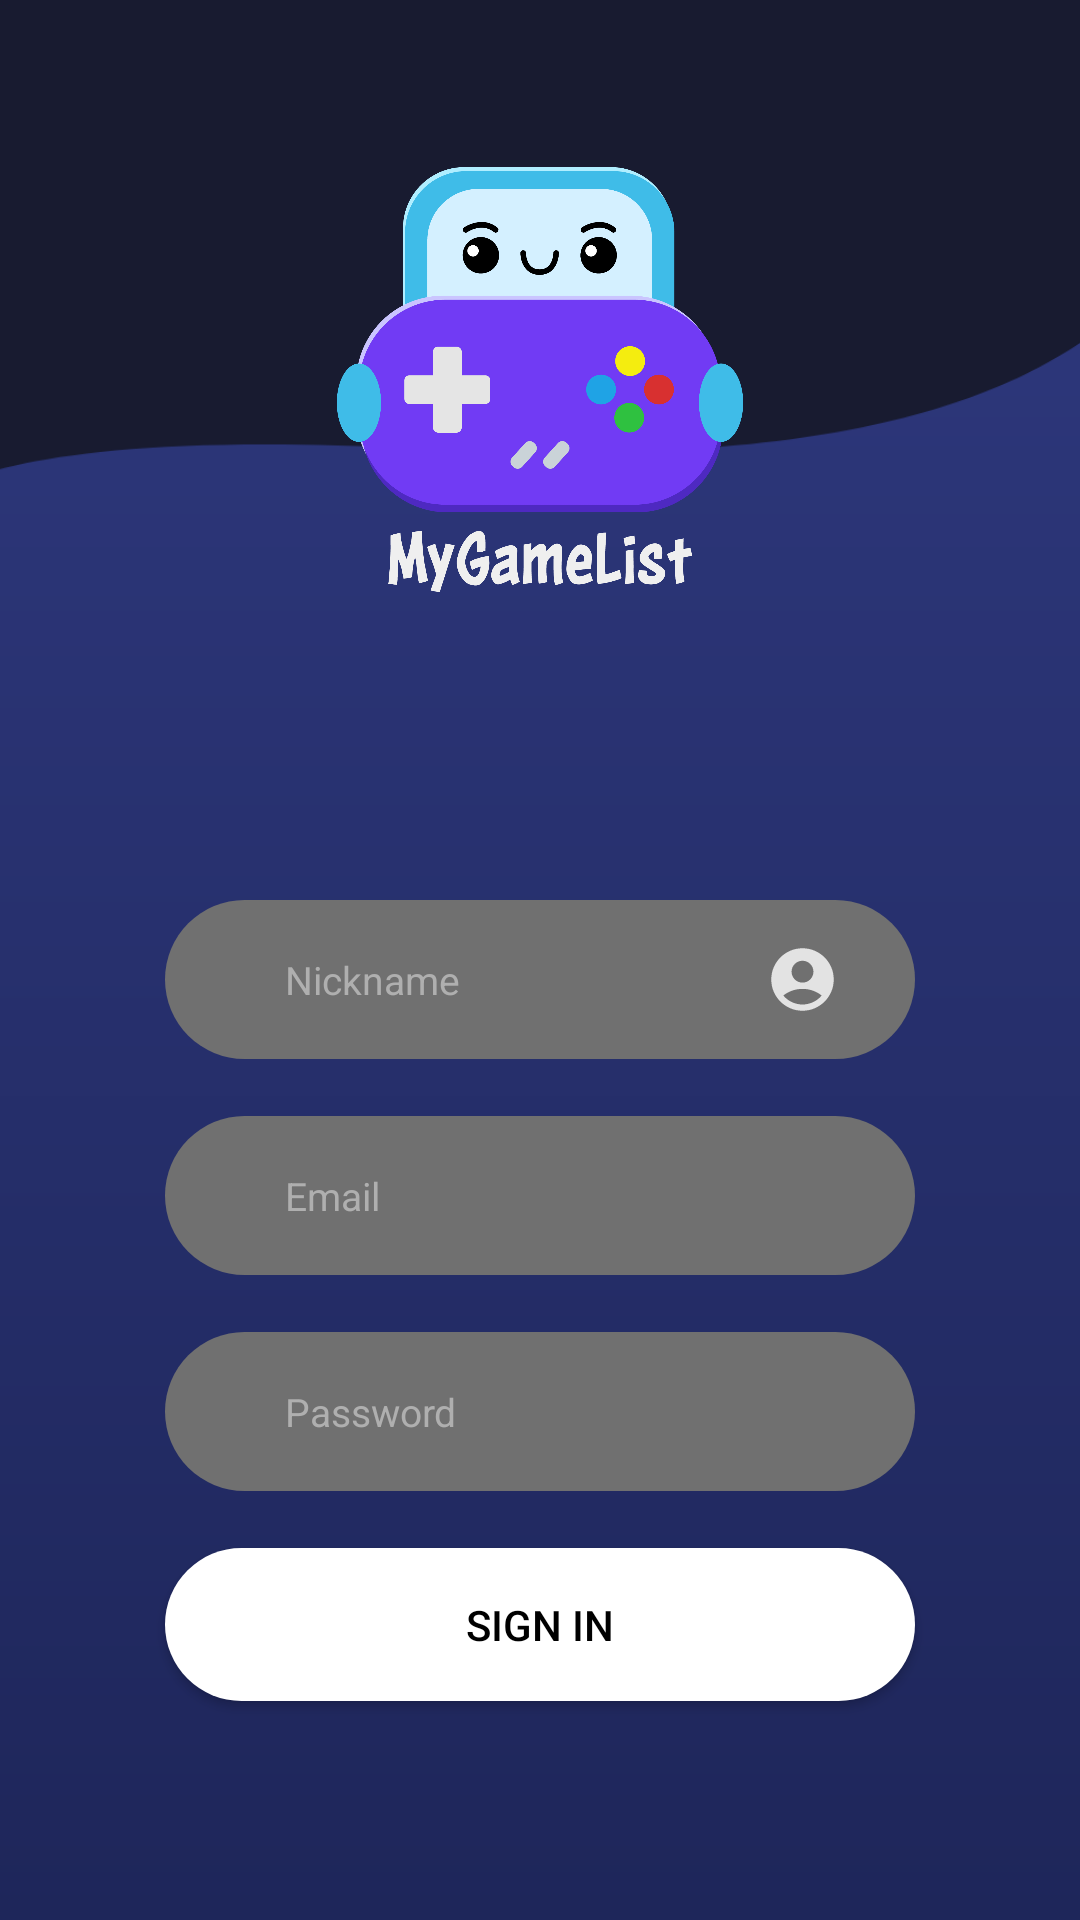

Icons on this 1080 × 1920 Android screen, each with the point to tap as point (x, y):
account circle: point (802, 979)
